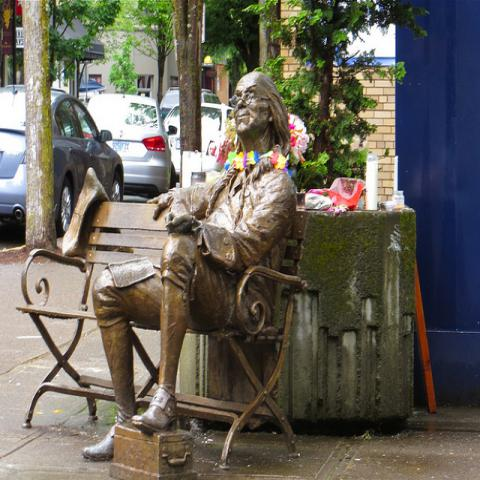car: (0, 83, 128, 231), (87, 93, 177, 198), (164, 102, 235, 174), (160, 87, 223, 118)
